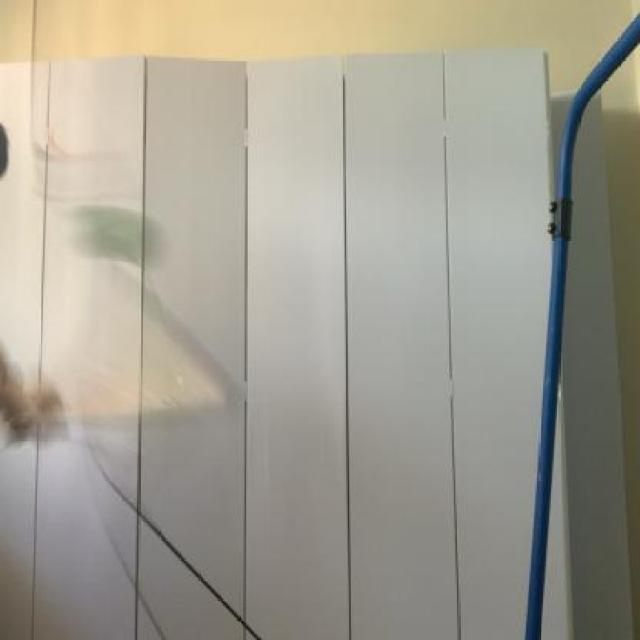baseball: (65, 204, 177, 267)
